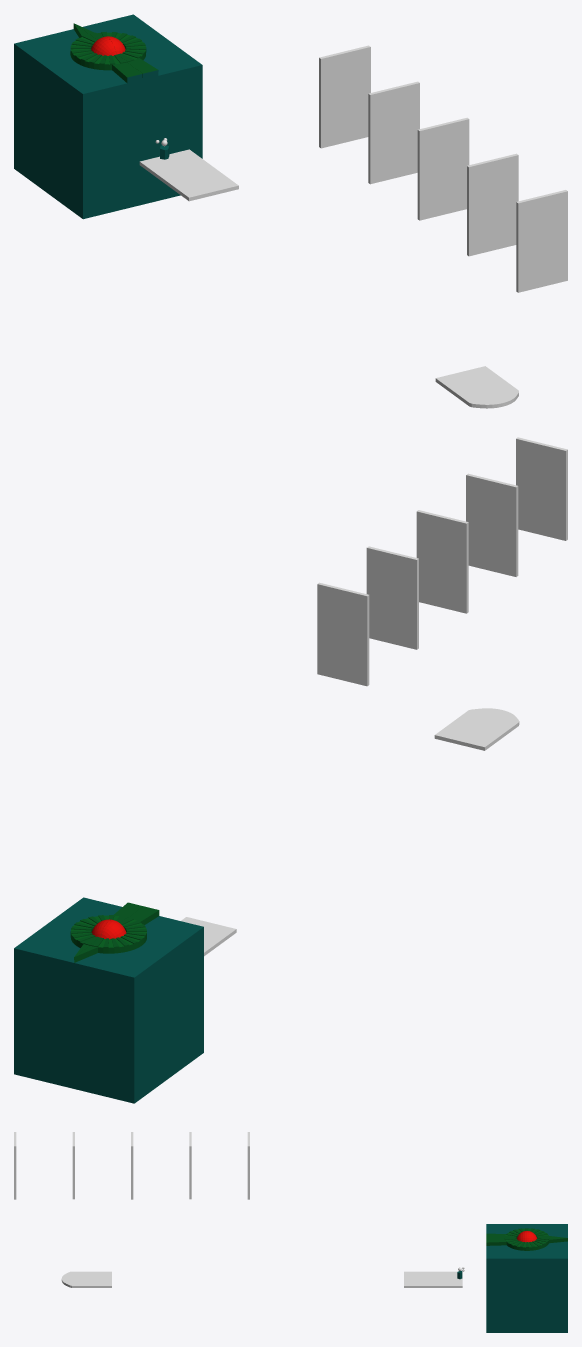
Rendered from FinalePlace.fbx.
3 renders of one model, top to bottom at view 1: azimuth 30°, elevation 25°; view 2: azimuth 150°, elevation 25°; view 3: azimuth 270°, elevation 25°, orthographic. The views are drawn at different scales.
Visible parts, largest first — view 1: Contenair, Bridge1, Bridge3, Bridge5, Bridge4, Bridge2, LastBridge, StartPlateform, Sphere; view 2: Contenair, Bridge5, Bridge2, Bridge3, Bridge4, Bridge1, StartPlateform; view 3: Contenair, LastBridge, StartPlateform.
Part boxes in pixels (x1,y1,x2,y2): Contenair: (14,14,202,219); Bridge1: (516,190,567,292); Bridge3: (417,117,469,220); Bridge5: (319,45,370,148); Bridge4: (368,81,419,184); Bridge2: (467,153,518,256); LastBridge: (139,149,238,201); StartPlateform: (435,366,518,408); Sphere: (91,36,125,55); Contenair: (14,897,203,1103); Bridge5: (317,582,369,686); Bridge2: (466,473,518,576); Bridge3: (416,510,468,613); Bridge4: (366,546,418,649); Bridge1: (516,437,567,540); StartPlateform: (434,708,519,750); Contenair: (486,1224,567,1332); LastBridge: (404,1271,462,1287); StartPlateform: (61,1271,111,1287).
Size of the model in its own units: 945 by 2253 by 6395.
